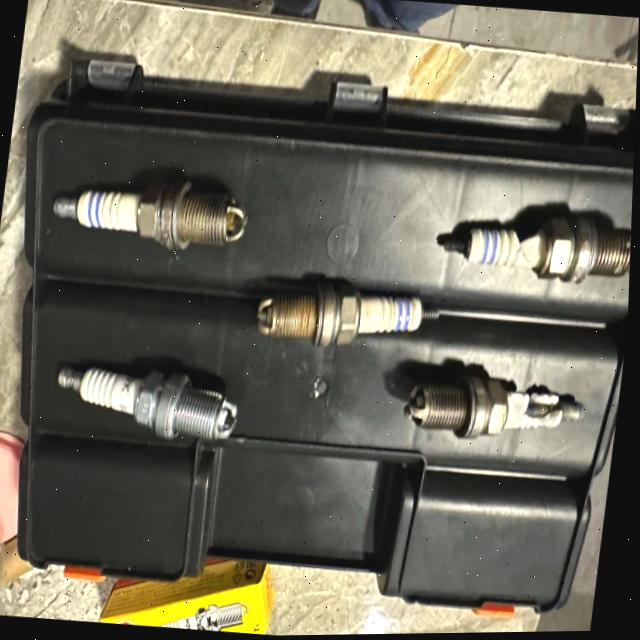damaged_spark-plug: (434, 197, 634, 300), (402, 364, 584, 457)
spark-plug: (44, 345, 250, 469), (41, 159, 251, 258), (250, 277, 444, 345)
